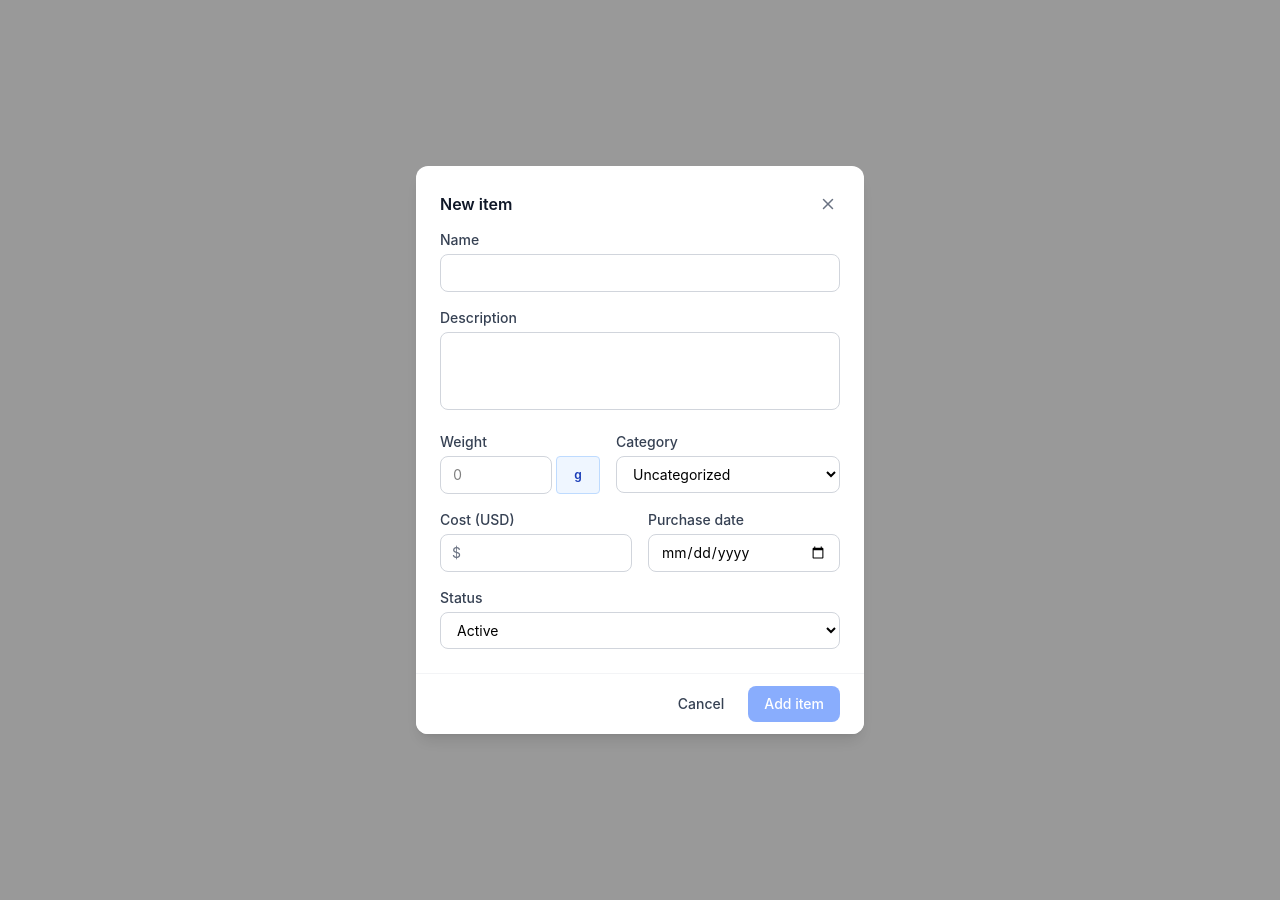
Test: GearItemDialog cost › refuses a cost above the maximum, without saving
The image size is (1280, 900).
In the field labelled "Name": (640, 273) [440, 254, 840, 292], type "Tent"
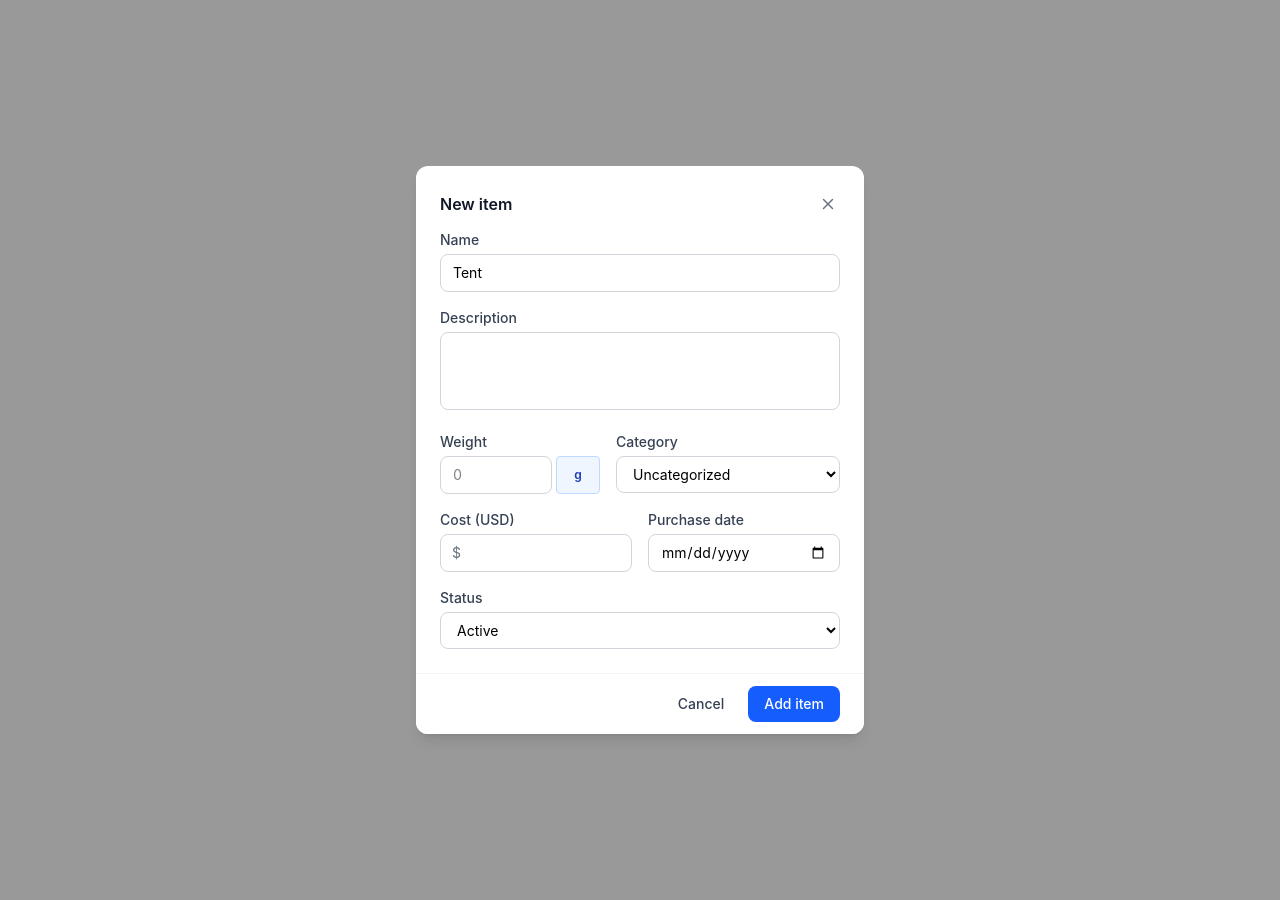
In the number field labelled "Cost (USD)": (536, 553) [440, 534, 632, 572], type "100000000"
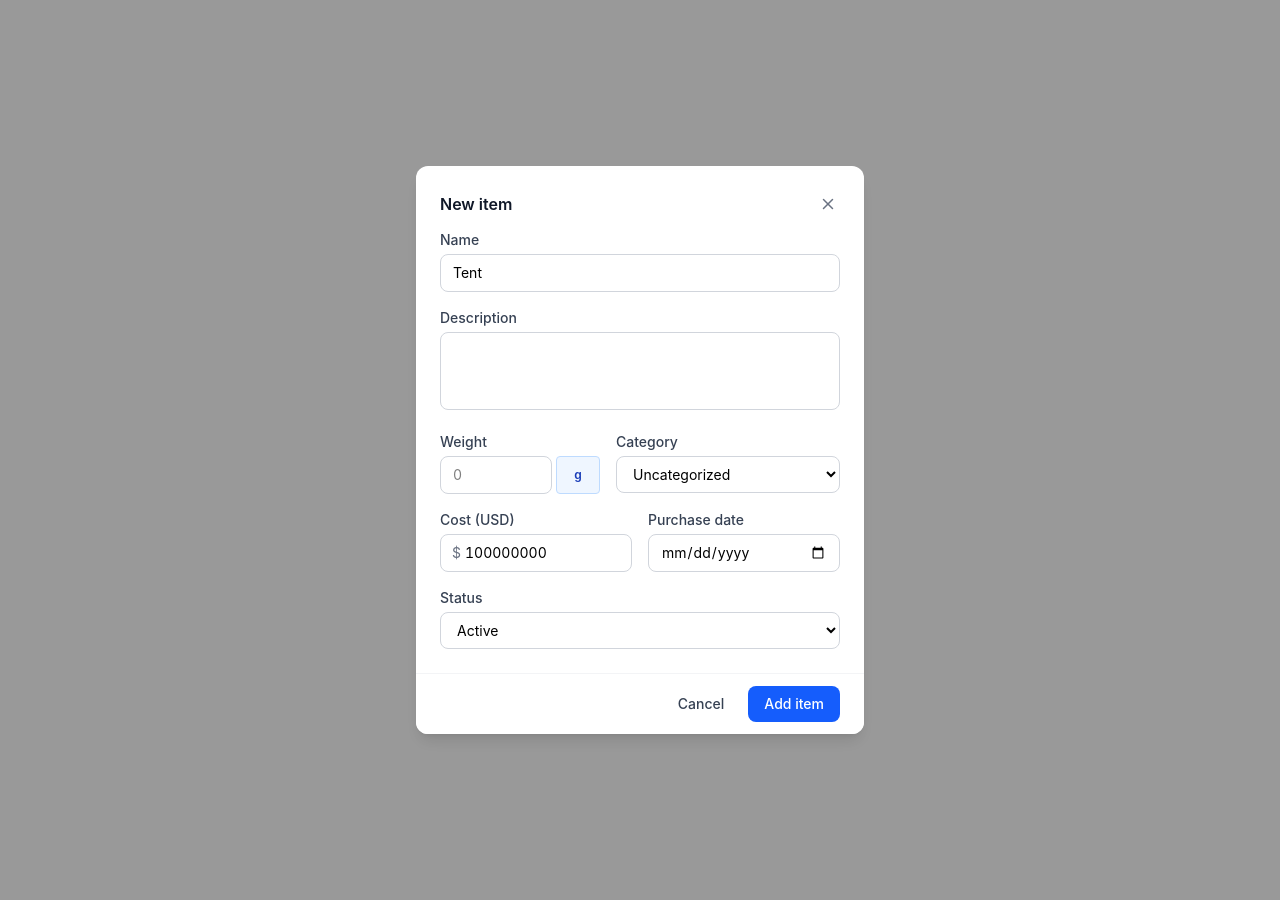
Click the button "Add item": click(794, 704) [748, 686, 840, 722]
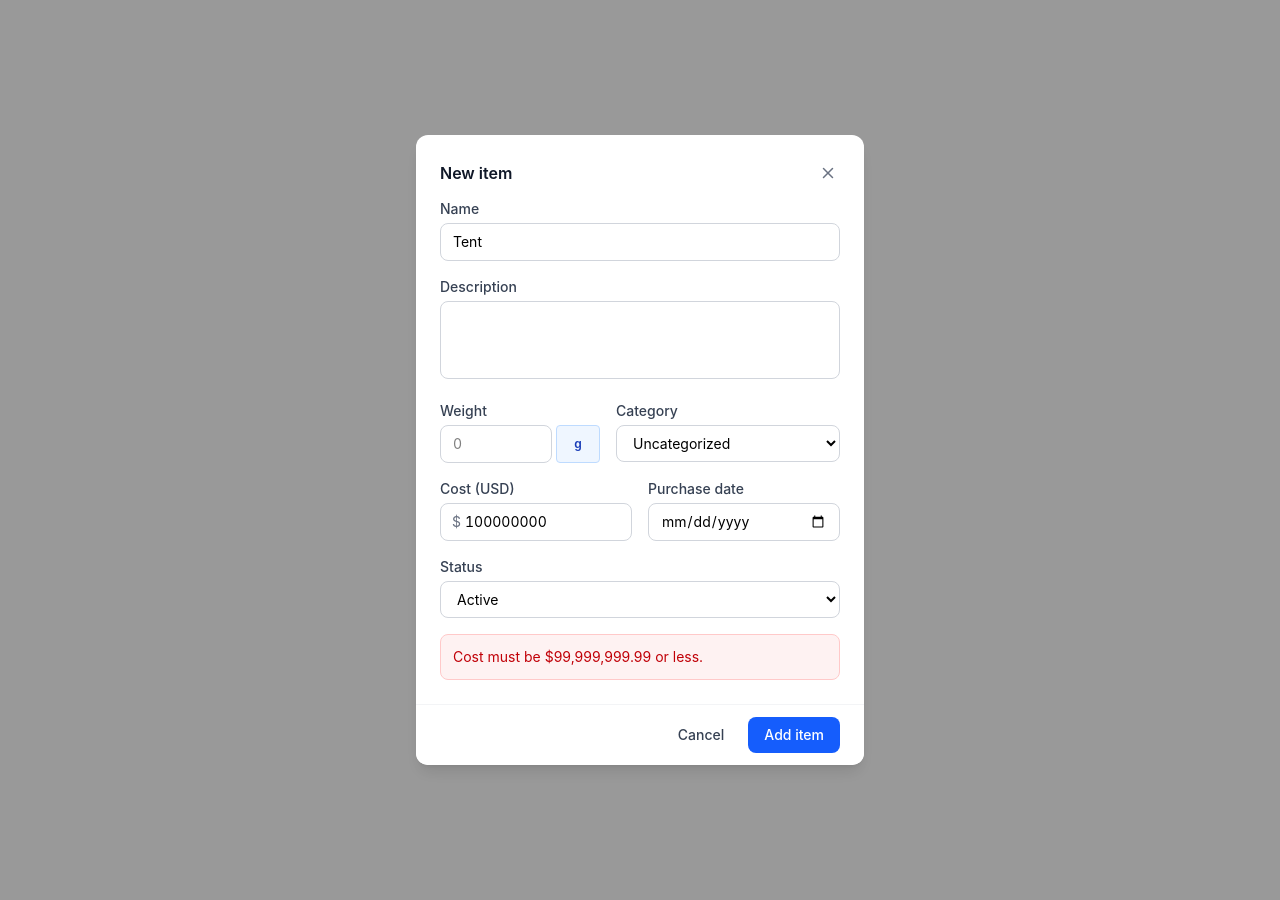
expect the message reads "Cost must be $99,999,999.99 or less.": met, box [453, 648, 703, 665]
